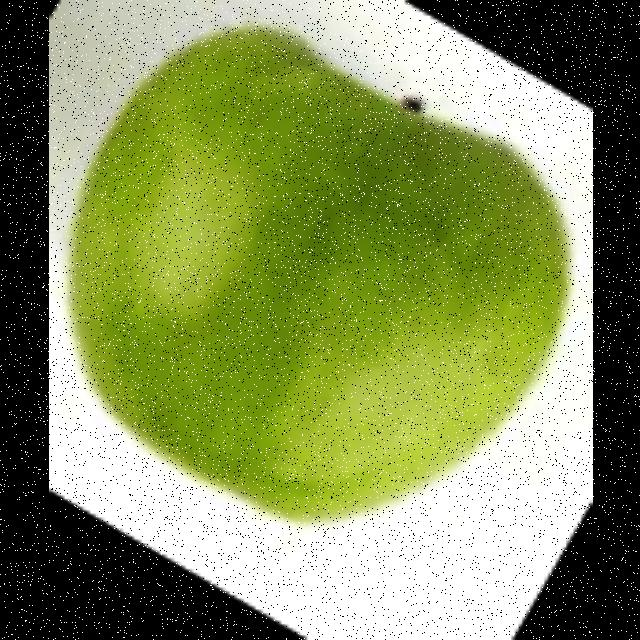Apel Segar: (62, 26, 570, 516)
